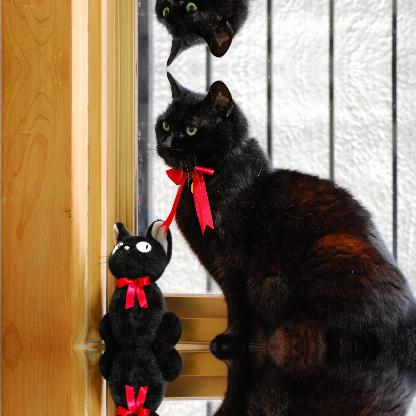Cat: (117, 70, 414, 344), (117, 347, 415, 415), (117, 0, 415, 67), (96, 215, 180, 345), (96, 347, 181, 415)
